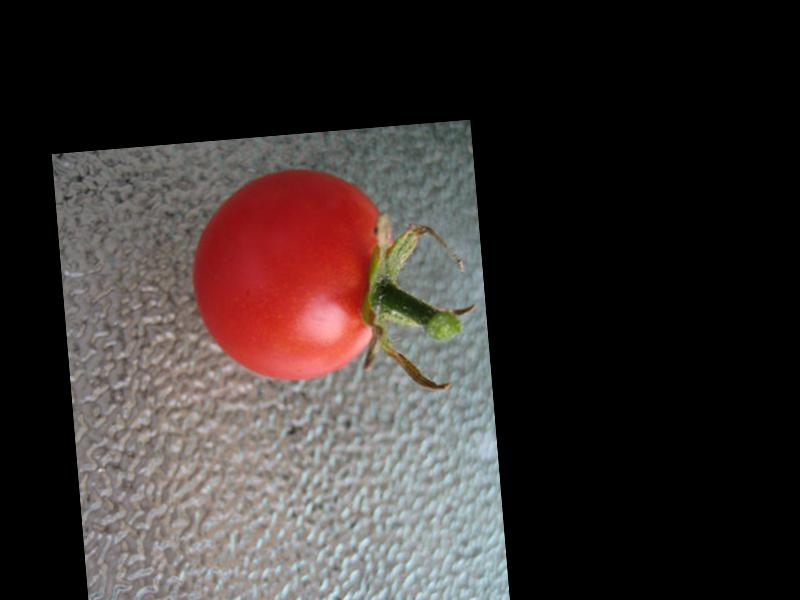Tomato: (183, 164, 393, 390)
